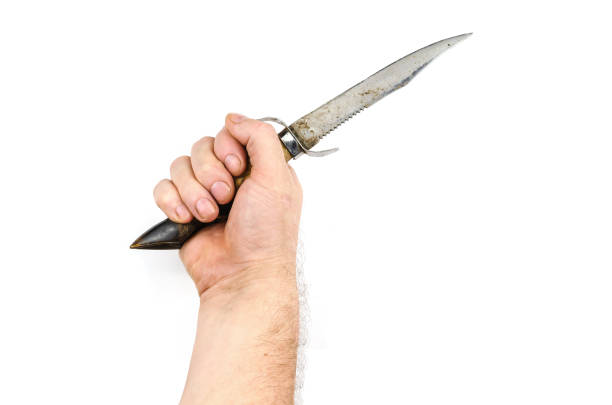knife: (126, 30, 476, 252)
